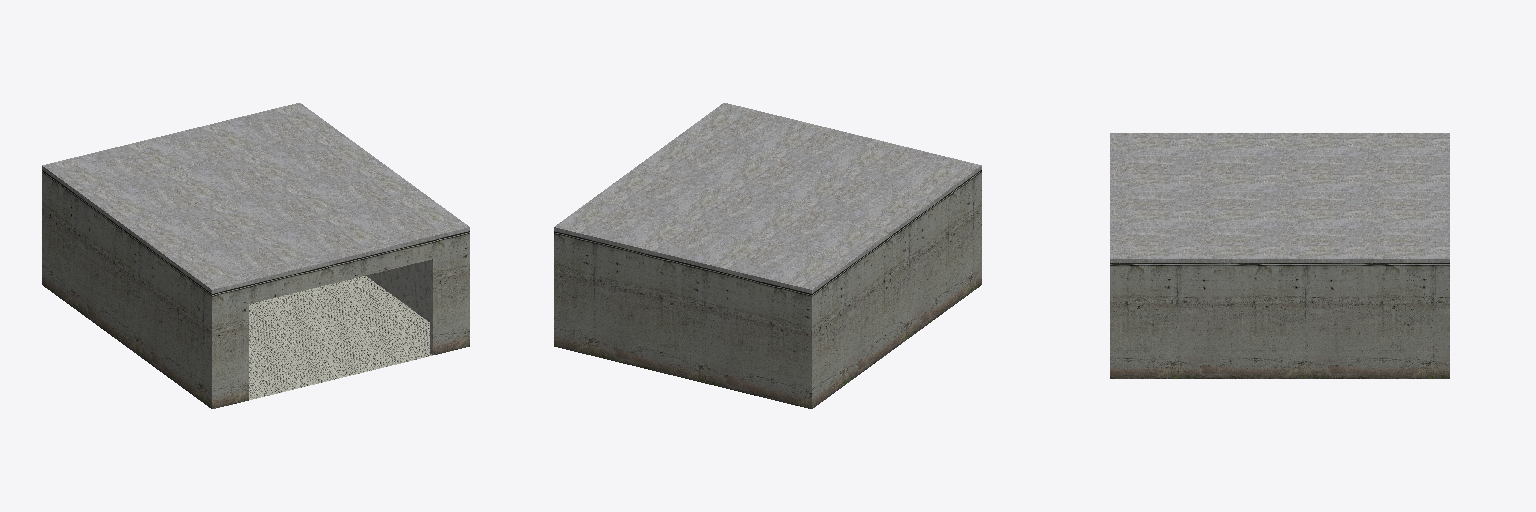
The picture shows the model from 3 angles: view 1: azimuth 30°, elevation 25°; view 2: azimuth 150°, elevation 25°; view 3: azimuth 270°, elevation 25°; orthographic projection.
Visible parts, largest first — view 1: smallgarage; view 2: smallgarage; view 3: smallgarage.
Boxes of the visible parts, <box> form: smallgarage: <box>42,103,469,408</box>; smallgarage: <box>554,103,981,408</box>; smallgarage: <box>1110,133,1449,378</box>.
Size of the model in its own units: 7 by 3.1 by 8.
21 materials, 4 textured.